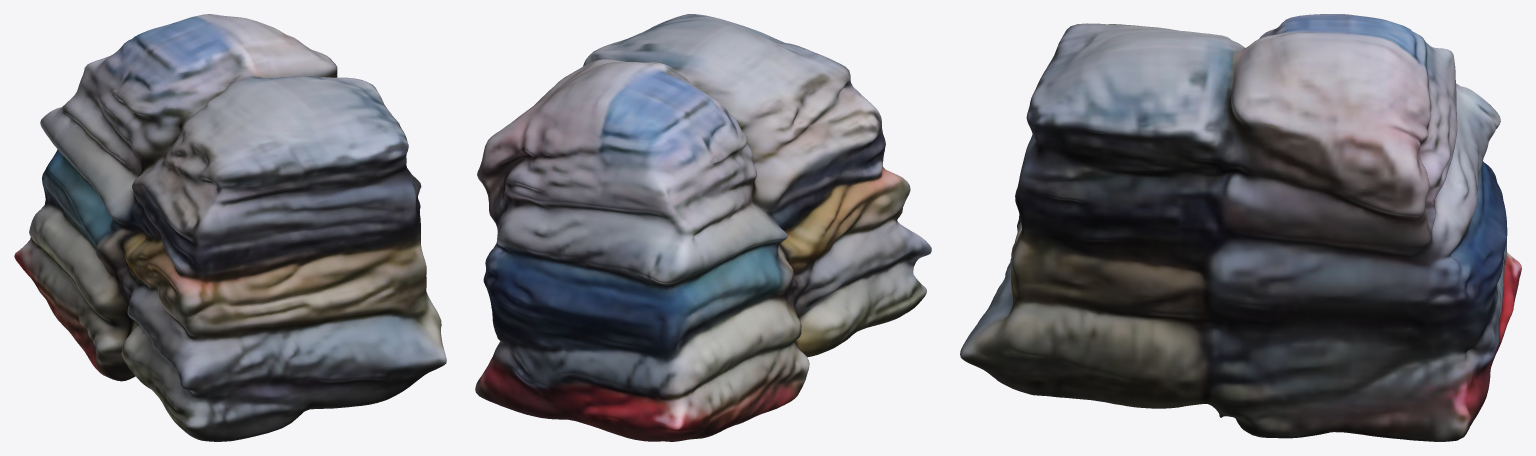
The model's file is sacks1.glb.
3 views of the same model, side by side, from view 1: azimuth 30°, elevation 25°; view 2: azimuth 150°, elevation 25°; view 3: azimuth 270°, elevation 25° (orthographic). The views are drawn at different scales.
Visible parts, largest first — view 1: world; view 2: world; view 3: world.
Part boxes in pixels (left/top/right/bottom): world: left=14, top=14, right=446, bottom=441; world: left=475, top=14, right=931, bottom=441; world: left=960, top=14, right=1521, bottom=441.
Size of the model in its own units: 0.337 by 0.3472 by 0.4887.
1 material, 1 textured.
